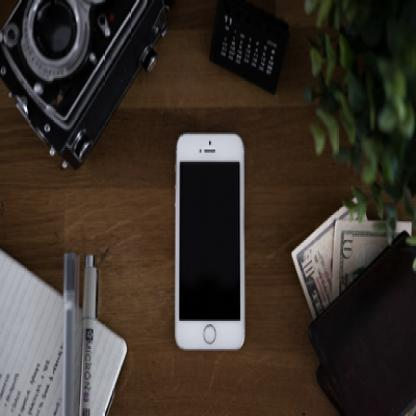cell-phone: (167, 126, 254, 365)
